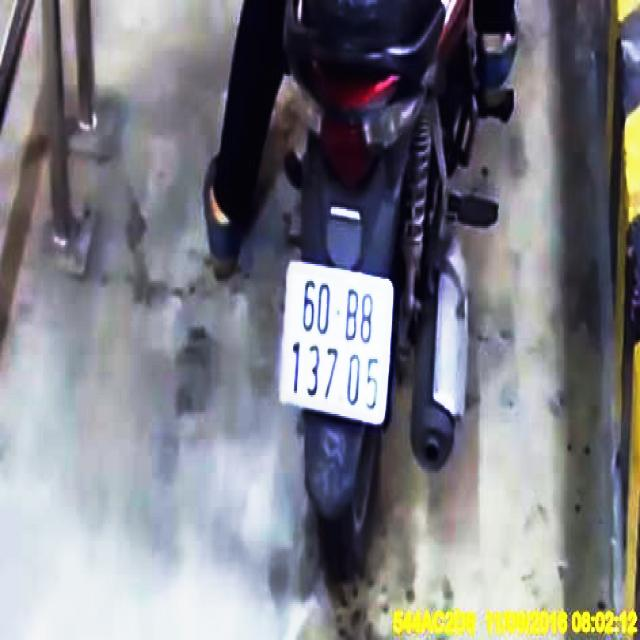license_plate: (281, 265, 393, 424)
